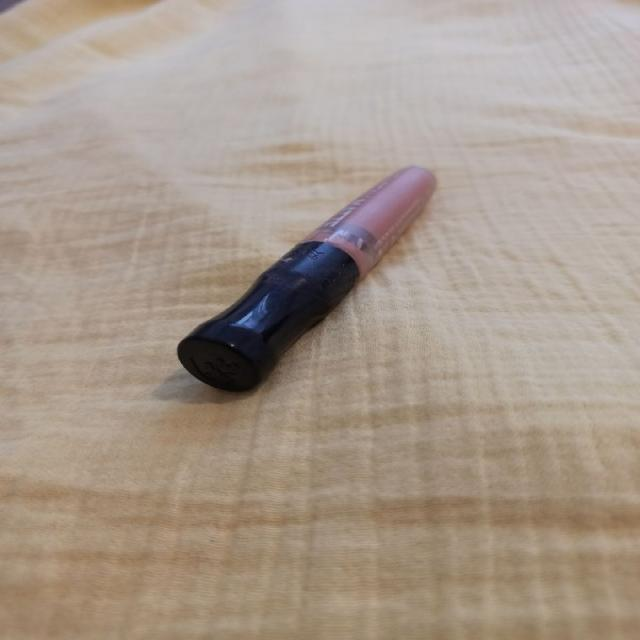lipstick: (176, 164, 437, 392)
